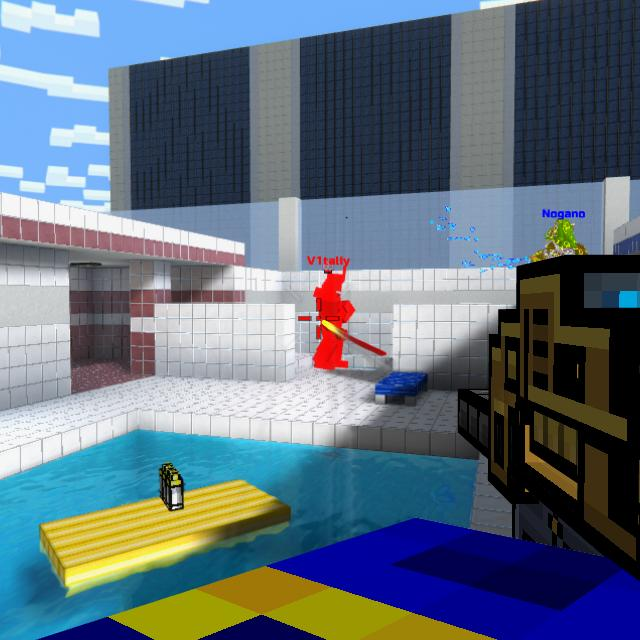Enemy: (312, 265, 356, 371)
